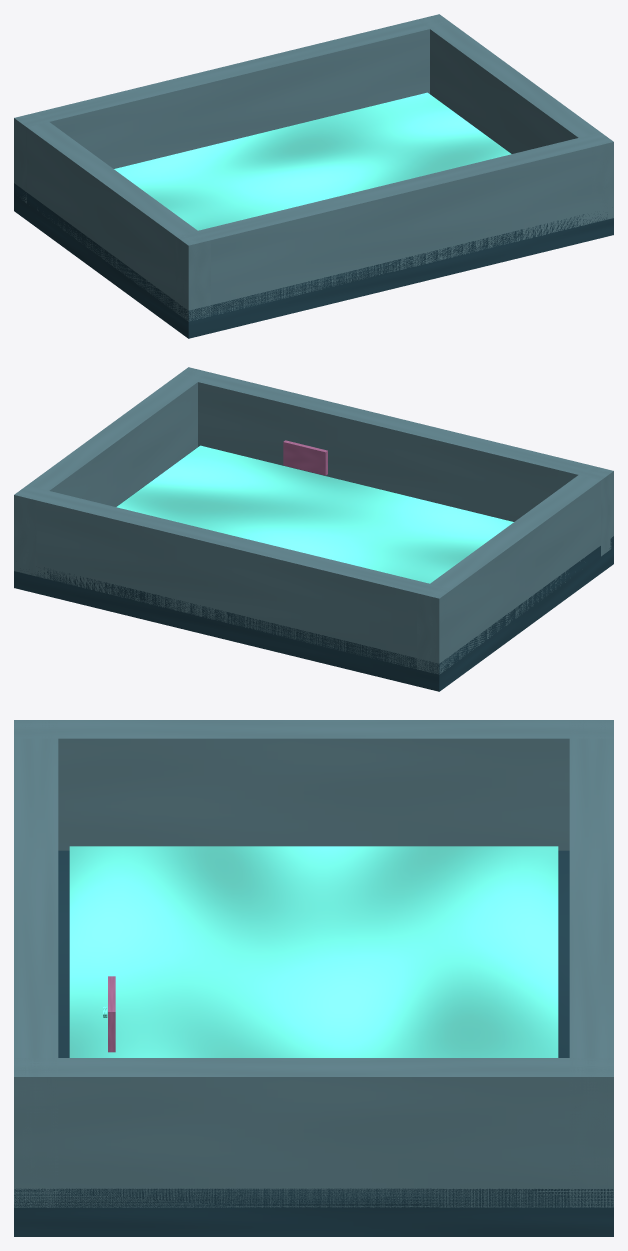
The model's file is atlas100-s068-a02.lod1.glb.
3 views of the same model, one above another, from view 1: azimuth 30°, elevation 25°; view 2: azimuth 150°, elevation 25°; view 3: azimuth 270°, elevation 25° (orthographic). The views are drawn at different scales.
Visible parts, largest first — view 1: atlas100-s068-a02:part-005, atlas100-s068-a02:part-004, atlas100-s068-a02:part-001, atlas100-s068-a02:part-002, atlas100-s068-a02:part-000, atlas100-s068-a02:part-003; view 2: atlas100-s068-a02:part-004, atlas100-s068-a02:part-005, atlas100-s068-a02:part-001, atlas100-s068-a02:part-002, atlas100-s068-a02:part-000, atlas100-s068-a02:part-003, atlas100-s068-a02:part-006; view 3: atlas100-s068-a02:part-001, atlas100-s068-a02:part-003, atlas100-s068-a02:part-002, atlas100-s068-a02:part-000, atlas100-s068-a02:part-004, atlas100-s068-a02:part-005.
Part boxes in pixels (left/top/right/bottom): atlas100-s068-a02:part-005: left=175, top=132, right=613, bottom=320; atlas100-s068-a02:part-004: left=14, top=14, right=450, bottom=203; atlas100-s068-a02:part-001: left=114, top=92, right=511, bottom=230; atlas100-s068-a02:part-002: left=14, top=112, right=210, bottom=321; atlas100-s068-a02:part-000: left=14, top=94, right=613, bottom=338; atlas100-s068-a02:part-003: left=418, top=14, right=613, bottom=220; atlas100-s068-a02:part-004: left=14, top=485, right=452, bottom=673; atlas100-s068-a02:part-005: left=176, top=367, right=613, bottom=556; atlas100-s068-a02:part-001: left=116, top=445, right=513, bottom=583; atlas100-s068-a02:part-002: left=417, top=465, right=613, bottom=674; atlas100-s068-a02:part-000: left=14, top=447, right=613, bottom=691; atlas100-s068-a02:part-003: left=14, top=367, right=210, bottom=576; atlas100-s068-a02:part-006: left=283, top=440, right=327, bottom=475; atlas100-s068-a02:part-001: left=69, top=846, right=558, bottom=1057; atlas100-s068-a02:part-003: left=14, top=1058, right=613, bottom=1207; atlas100-s068-a02:part-002: left=14, top=720, right=613, bottom=850; atlas100-s068-a02:part-000: left=14, top=850, right=613, bottom=1236; atlas100-s068-a02:part-004: left=569, top=720, right=613, bottom=1207; atlas100-s068-a02:part-005: left=14, top=720, right=58, bottom=1207.
Bounding box in the file's own units: 3.8 × 0.795 × 2.7.
Materials: 4 (4 with a texture image).
